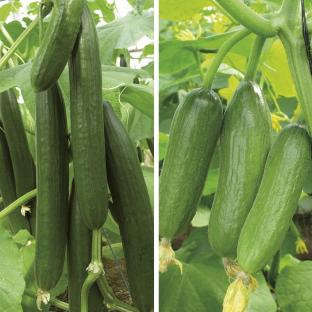Cucumber: (209, 81, 272, 257), (238, 123, 311, 273), (103, 100, 153, 311), (160, 89, 222, 238), (69, 4, 108, 229), (35, 83, 69, 291), (0, 89, 35, 198), (68, 180, 92, 311), (0, 122, 16, 206)
